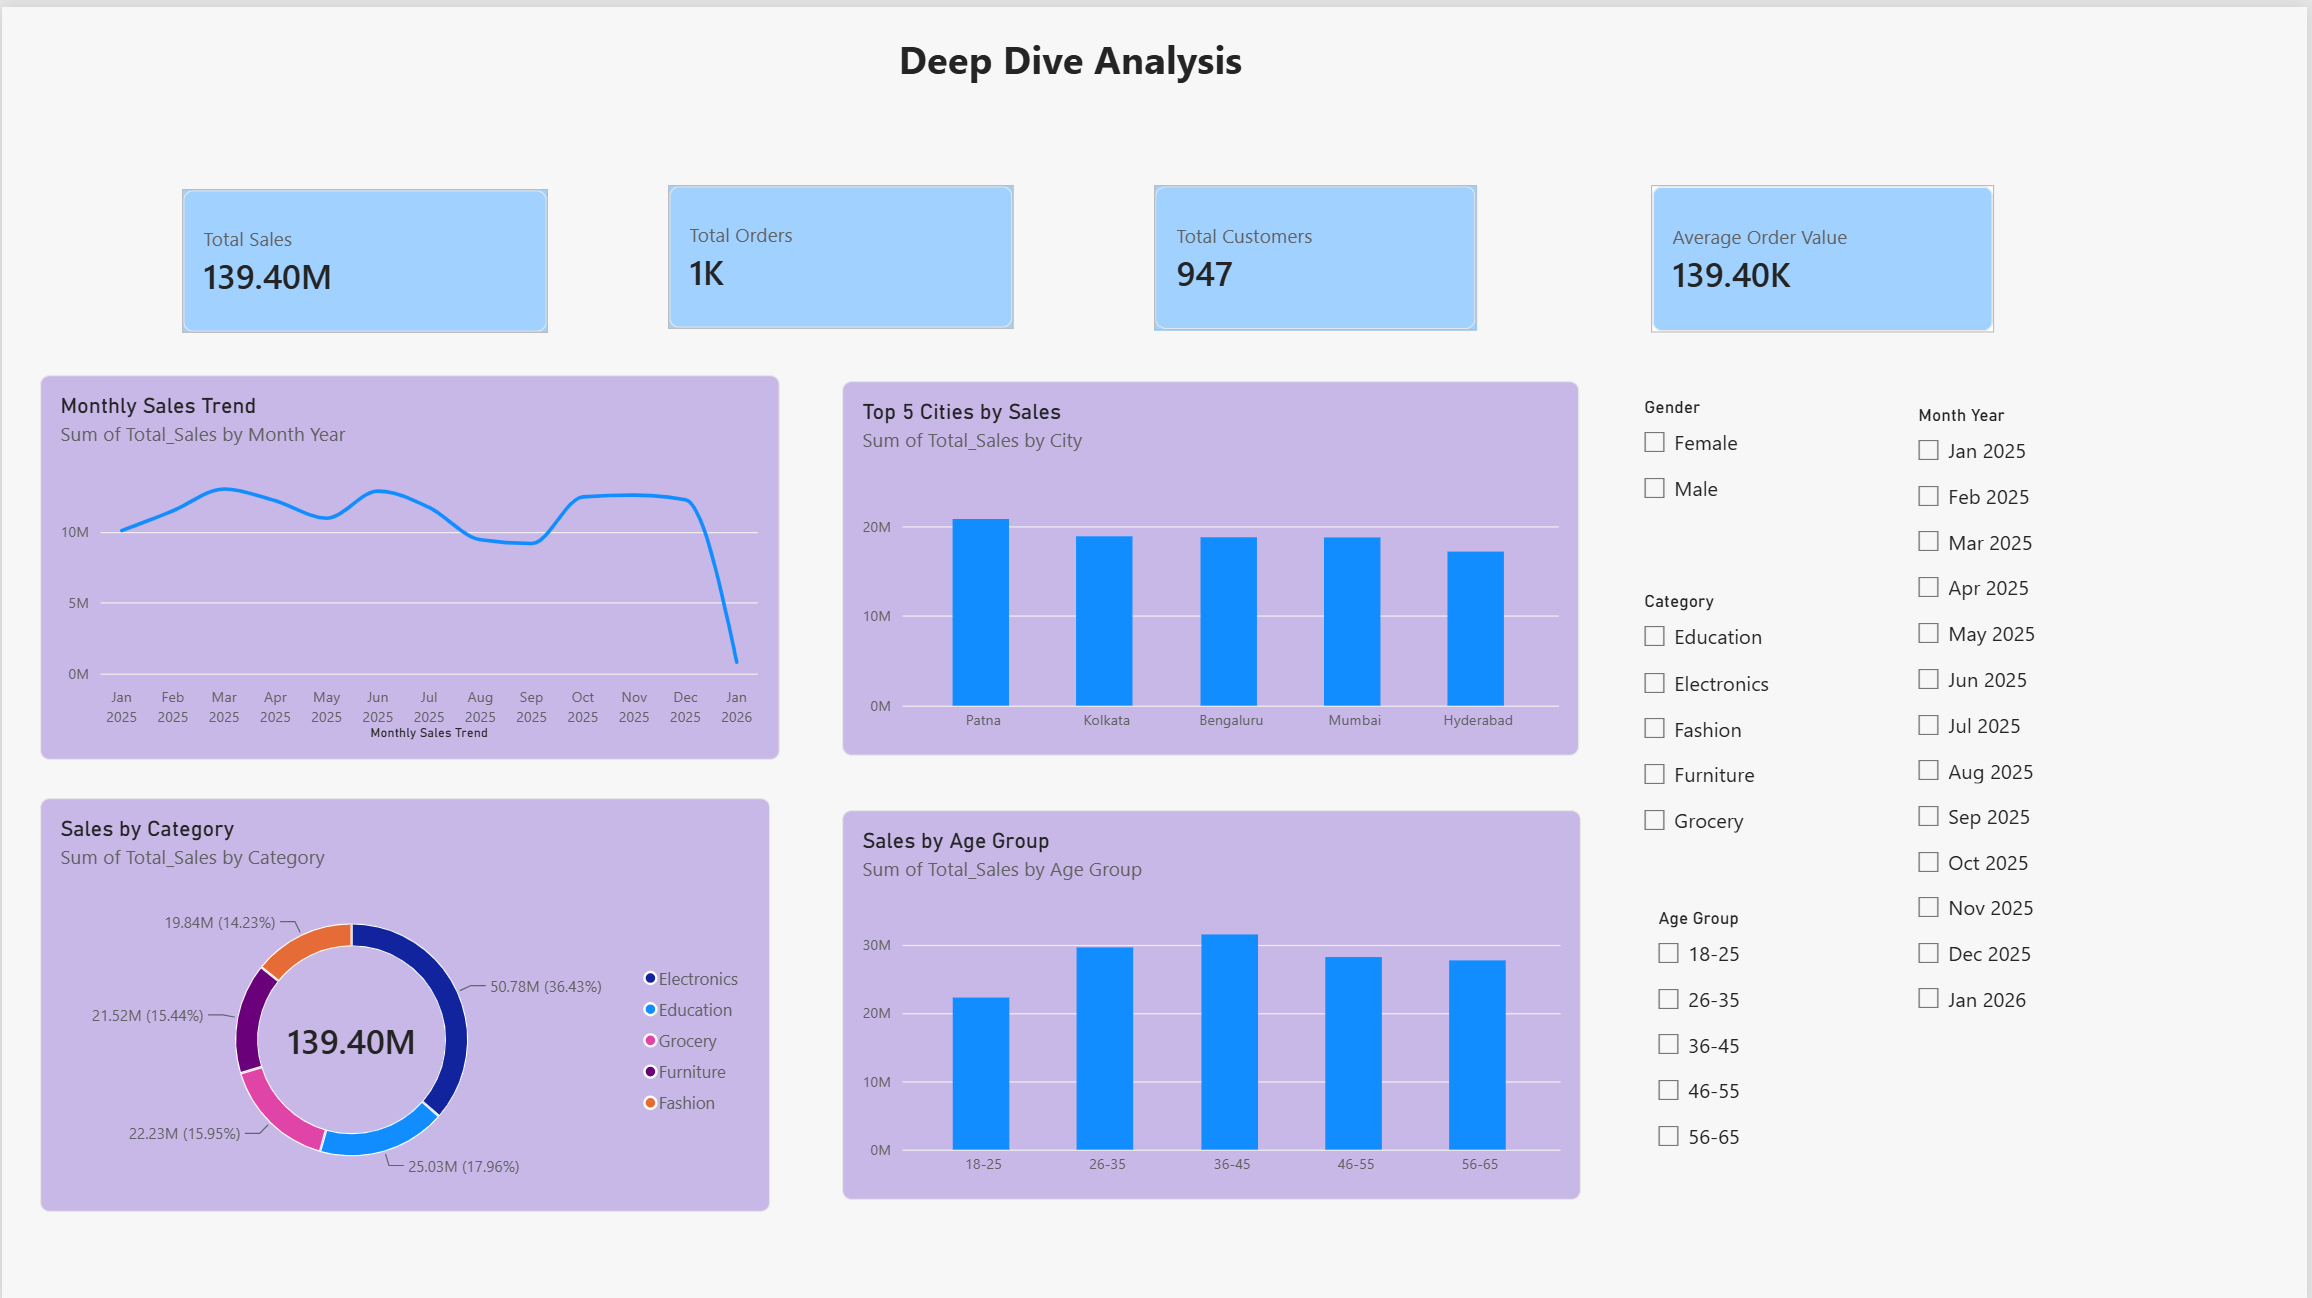

The dashboard page shown, as its layout file describes it:
{"tool":"powerbi","page":{"name":"Deep Dive Analysis","canvas":[1920,1080],"ordinal":1},"visuals":[{"type":"cardVisual","title":"Total Sales","fields":{"Data":["Sheet1.Total Sales"]},"box":[150,151.7,305,120],"z":0},{"type":"cardVisual","title":"Total Orders","fields":{"Data":["Sheet1.Total Orders"]},"box":[555,148.3,288.3,120],"z":1000},{"type":"cardVisual","title":"Total Customers","fields":{"Data":["Sheet1.Total Customers"]},"box":[960,148.3,268.3,121.7],"z":2000},{"type":"cardVisual","fields":{"Data":["Sheet1.Average Order Value"]},"box":[1373.3,148.3,286.7,123.3],"z":3000},{"type":"lineChart","title":"Monthly Sales Trend","fields":{"Category":["Sheet1.Month Year"],"Y":["Sum(Sheet1.Total_Sales)"]},"box":[31.7,306.7,616.7,320],"z":4000},{"type":"clusteredColumnChart","title":"Top 5 Cities by Sales","fields":{"Category":["Sheet1.City"],"Y":["Sum(Sheet1.Total_Sales)"]},"box":[700,311.7,613.3,311.7],"z":5000},{"type":"donutChart","title":"Sales by Category","fields":{"Category":["Sheet1.Category"],"Y":["Sum(Sheet1.Total_Sales)"]},"box":[31.7,658.3,608.3,345],"z":6000},{"type":"clusteredColumnChart","title":"Sales by Age Group","fields":{"Category":["Sheet1.Age Group"],"Y":["Sum(Sheet1.Total_Sales)"]},"box":[700,668.3,615,325],"z":7000},{"type":"textbox","box":[150,21.7,1480,50],"z":8000},{"type":"slicer","fields":{"Values":["Sheet1.Gender"]},"box":[1360,325,171.7,98.3],"z":9000},{"type":"slicer","fields":{"Values":["Sheet1.Category"]},"box":[1360,486.7,176.7,208.3],"z":10000},{"type":"slicer","fields":{"Values":["Sheet1.Age Group"]},"box":[1371.7,750,155,228.3],"z":11000},{"type":"slicer","fields":{"Values":["Sheet1.Month Year"]},"box":[1588.3,331.7,165,521.7],"z":12000}]}

Visuals, with their boxes in screenshot pixels (x1, y1, x2, y2), scaled from the page's 1920x1080 canvas onto the 2312x1298 screenshot:
"Total Sales" cardVisual: [181, 182, 548, 327]
"Total Orders" cardVisual: [668, 178, 1015, 322]
"Total Customers" cardVisual: [1156, 178, 1479, 324]
cardVisual - Sheet1.Average Order Value: [1654, 178, 1999, 326]
"Monthly Sales Trend" lineChart: [38, 369, 781, 753]
"Top 5 Cities by Sales" clusteredColumnChart: [843, 375, 1581, 749]
"Sales by Category" donutChart: [38, 791, 771, 1206]
"Sales by Age Group" clusteredColumnChart: [843, 803, 1583, 1194]
textbox: [181, 26, 1963, 86]
slicer - Sheet1.Gender: [1638, 391, 1844, 509]
slicer - Sheet1.Category: [1638, 585, 1850, 835]
slicer - Sheet1.Age Group: [1652, 901, 1838, 1176]
slicer - Sheet1.Month Year: [1913, 399, 2111, 1026]
